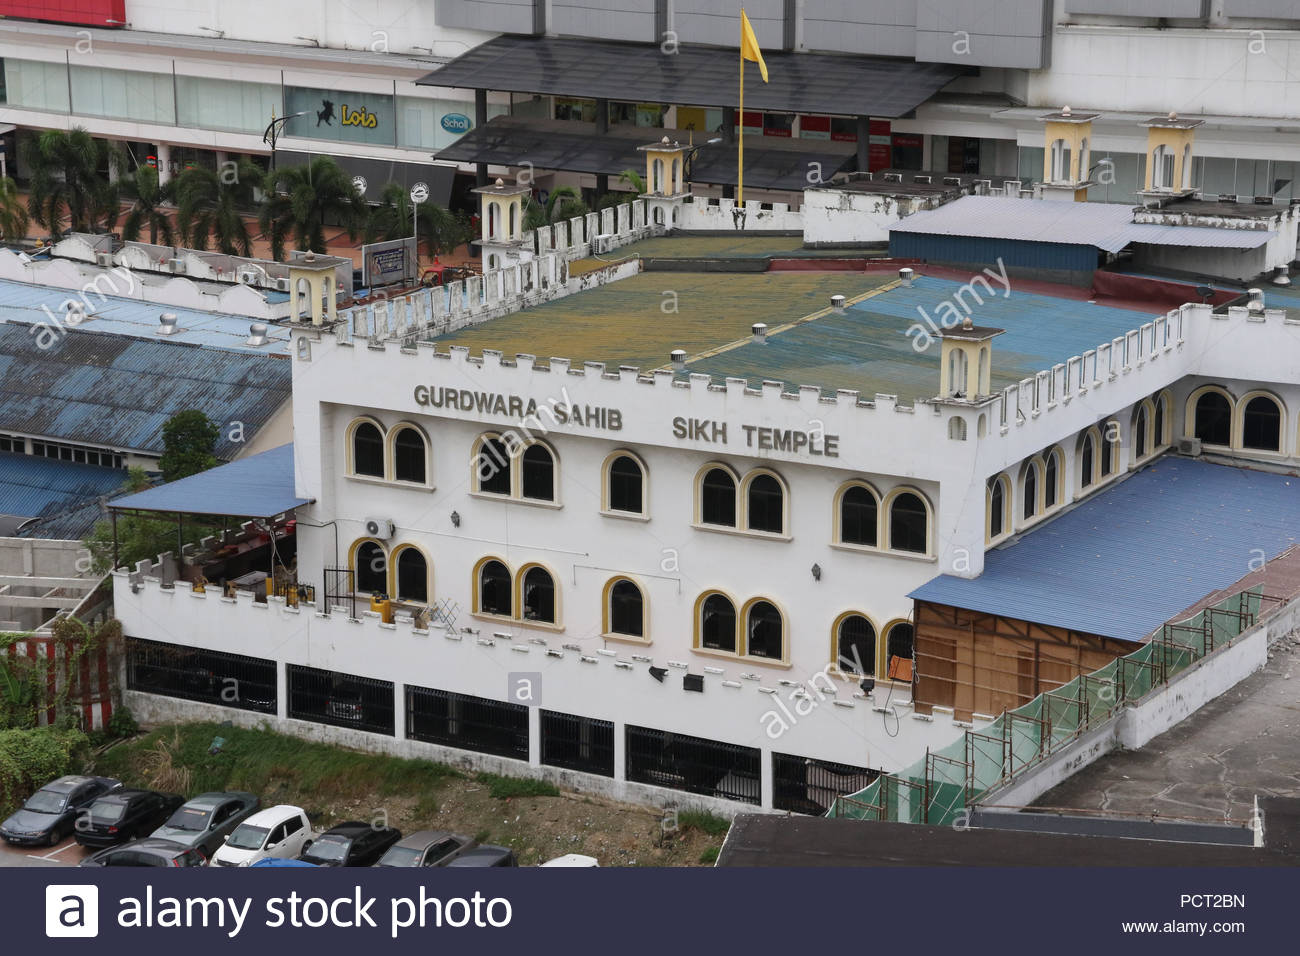Gurdwara: (261, 139, 1124, 675)
